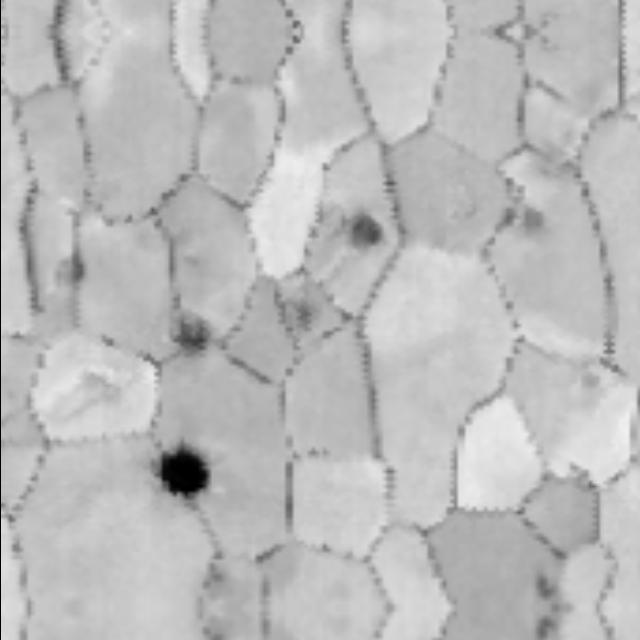good_void: (145, 427, 234, 516), (332, 199, 394, 254), (157, 312, 215, 370), (45, 250, 97, 295), (508, 201, 553, 252), (278, 291, 322, 338), (528, 562, 563, 604), (529, 612, 563, 640)
